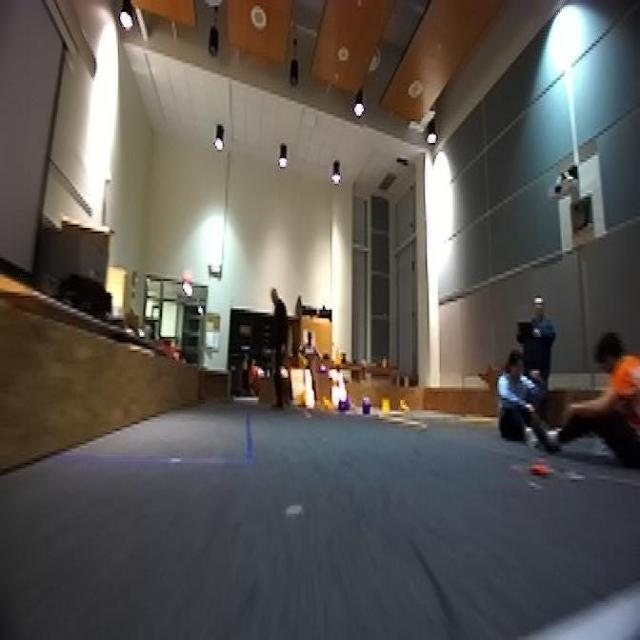frc_cone: (318, 397, 333, 415), (380, 396, 390, 421), (397, 400, 411, 417), (299, 352, 311, 370), (333, 347, 343, 368)
frc_cube: (360, 397, 372, 417), (317, 359, 329, 376), (337, 398, 347, 416)
